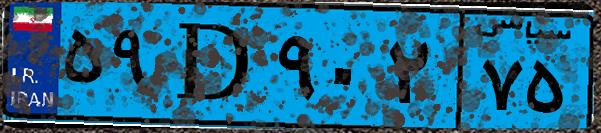0: (330, 28, 385, 110)
2: (385, 28, 445, 110)
5: (57, 26, 110, 100), (525, 38, 570, 115)
7: (475, 38, 525, 113)
9: (270, 28, 330, 110), (110, 28, 158, 98)
D: (158, 12, 270, 120)
